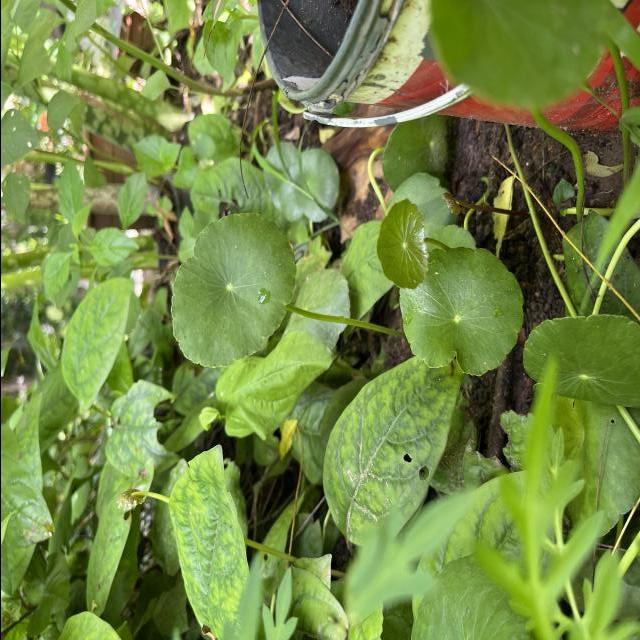Bacopa monnieri: (168, 211, 296, 371), (397, 245, 524, 378), (373, 196, 430, 292)
